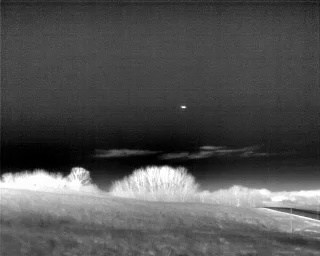AIRPLANE: (179, 103, 188, 111)
